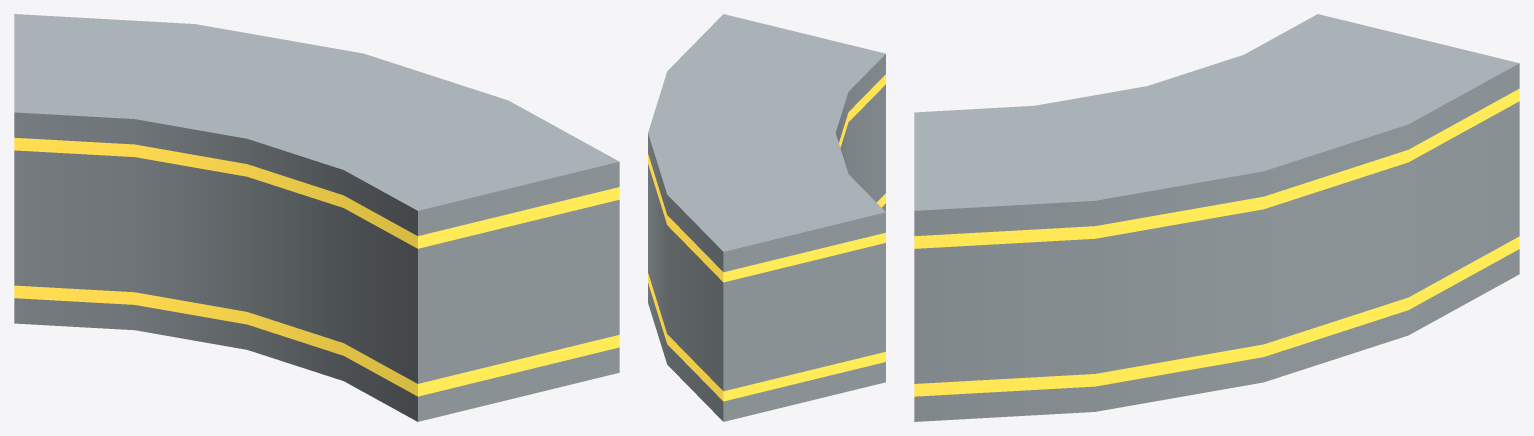
File: SM_60DegreeBend_v0.fbx
The picture shows the model from 3 angles, left to right: view 1: azimuth 30°, elevation 25°; view 2: azimuth 150°, elevation 25°; view 3: azimuth 270°, elevation 25°; orthographic projection. The views are drawn at different scales.
Parts seen in each view (by area): view 1: SM_60DegreeBend_v0; view 2: SM_60DegreeBend_v0; view 3: SM_60DegreeBend_v0.
Part boxes in pixels (bbox=[...]): SM_60DegreeBend_v0: bbox=[14, 14, 619, 421]; SM_60DegreeBend_v0: bbox=[648, 14, 885, 421]; SM_60DegreeBend_v0: bbox=[914, 14, 1519, 421].
Bounding box in the file's own units: 2 × 1 × 2.6.
